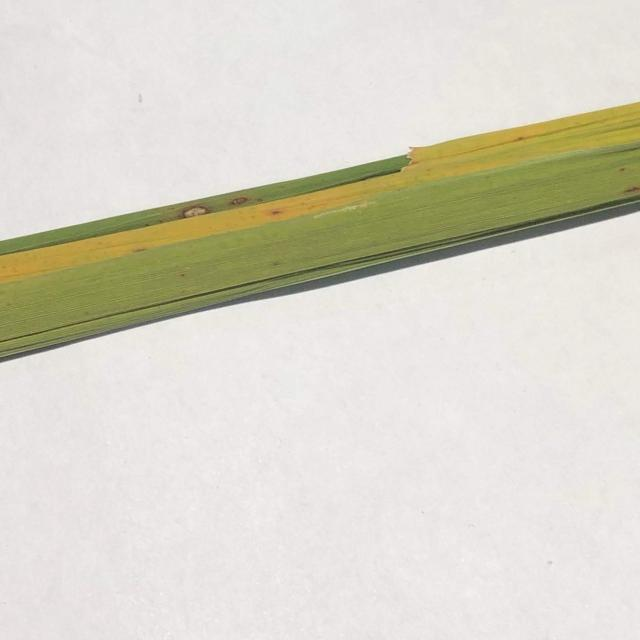Blast: (180, 208, 213, 219)
